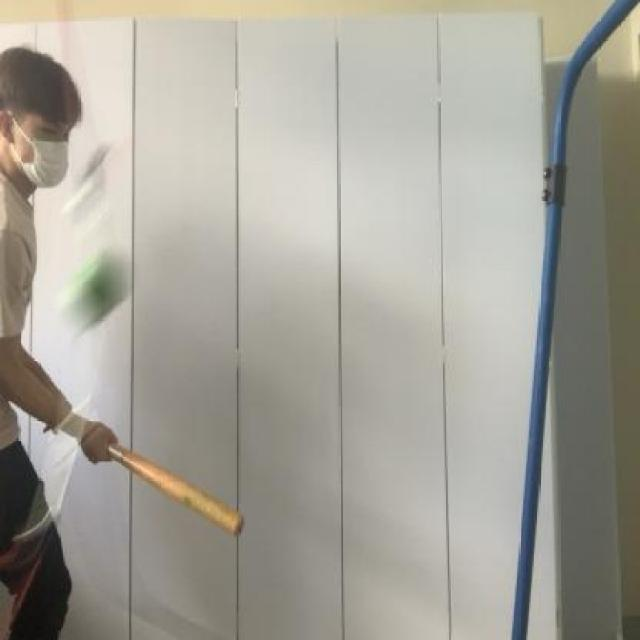baseball: (59, 248, 133, 343)
